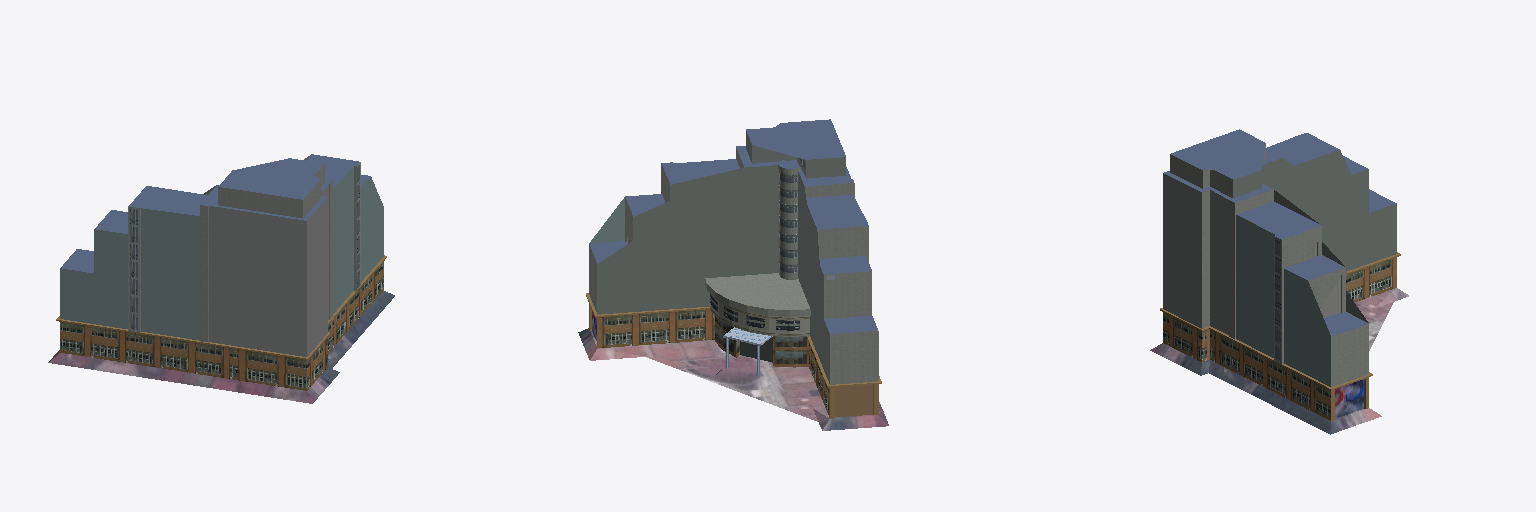
3 views of the same model, side by side, from view 1: azimuth 30°, elevation 25°; view 2: azimuth 150°, elevation 25°; view 3: azimuth 270°, elevation 25° (orthographic).
Visible parts, largest first — view 1: Mesh2 Component_4_1 Component_2_1 Component_1_1 Component1 skp9D, Mesh3 Component_2_1 Component_1_1 Component1 skp9D1E1 Model, Mesh1 Component_3_1 Component_2_1 Component_1_1 Component1 skp9D, Mesh6 Component_1_1 Component1 skp9D1E1 Model; view 2: Mesh1 Component_3_1 Component_2_1 Component_1_1 Component1 skp9D, Mesh2 Component_4_1 Component_2_1 Component_1_1 Component1 skp9D, Mesh4 Component_2_1 Component_1_1 Component1 skp9D1E1 Model, Mesh6 Component_1_1 Component1 skp9D1E1 Model, Mesh3 Component_2_1 Component_1_1 Component1 skp9D1E1 Model; view 3: Mesh1 Component_3_1 Component_2_1 Component_1_1 Component1 skp9D, Mesh3 Component_2_1 Component_1_1 Component1 skp9D1E1 Model, Mesh2 Component_4_1 Component_2_1 Component_1_1 Component1 skp9D, Mesh6 Component_1_1 Component1 skp9D1E1 Model.
Part boxes in pixels (x1,y1,x2,y2): Mesh2 Component_4_1 Component_2_1 Component_1_1 Component1 skp9D: (56,185,238,379); Mesh3 Component_2_1 Component_1_1 Component1 skp9D1E1 Model: (218,158,330,390); Mesh1 Component_3_1 Component_2_1 Component_1_1 Component1 skp9D: (304,154,386,353); Mesh6 Component_1_1 Component1 skp9D1E1 Model: (48,290,394,403); Mesh1 Component_3_1 Component_2_1 Component_1_1 Component1 skp9D: (586,146,778,348); Mesh2 Component_4_1 Component_2_1 Component_1_1 Component1 skp9D: (798,167,881,418); Mesh4 Component_2_1 Component_1_1 Component1 skp9D1E1 Model: (705,160,810,374); Mesh6 Component_1_1 Component1 skp9D1E1 Model: (578,328,888,430); Mesh3 Component_2_1 Component_1_1 Component1 skp9D1E1 Model: (746,119,845,178); Mesh1 Component_3_1 Component_2_1 Component_1_1 Component1 skp9D: (1209,184,1372,420); Mesh3 Component_2_1 Component_1_1 Component1 skp9D1E1 Model: (1160,129,1265,361); Mesh2 Component_4_1 Component_2_1 Component_1_1 Component1 skp9D: (1262,133,1400,302); Mesh6 Component_1_1 Component1 skp9D1E1 Model: (1150,288,1408,434).
Bounding box in the file's own units: 4296 × 2450 × 2941.
Materials: 21 (11 with a texture image).